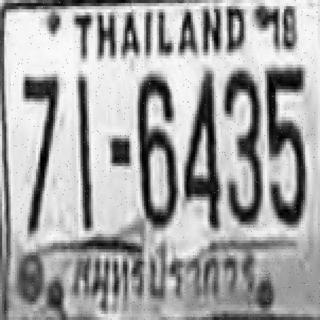N01: (76, 74, 91, 218)
N03: (222, 67, 260, 222)
N04: (182, 68, 218, 225)
N05: (265, 63, 303, 223)
N06: (136, 71, 176, 225)
N07: (22, 72, 58, 232)
P57: (67, 242, 257, 304)
